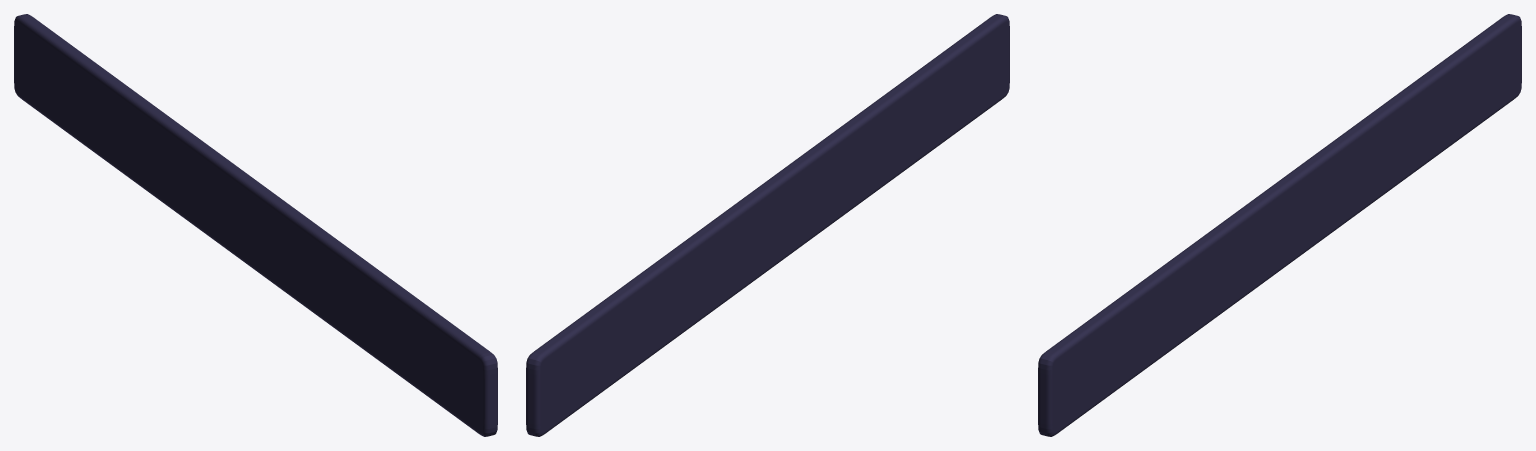
The model's file is files-bar.glb.
3 renders of one model, left to right at view 1: azimuth 30°, elevation 25°; view 2: azimuth 150°, elevation 25°; view 3: azimuth 330°, elevation 25°, orthographic.
Visible parts, largest first — view 1: Files.001; view 2: Files.001; view 3: Files.001.
Boxes of the visible parts, box(x1,y1,x2,y2) form: Files.001: box(14, 14, 497, 436); Files.001: box(526, 14, 1009, 436); Files.001: box(1038, 14, 1521, 436).
Bounding box in the file's own units: 0.0165 × 0.0927 × 0.9711.
